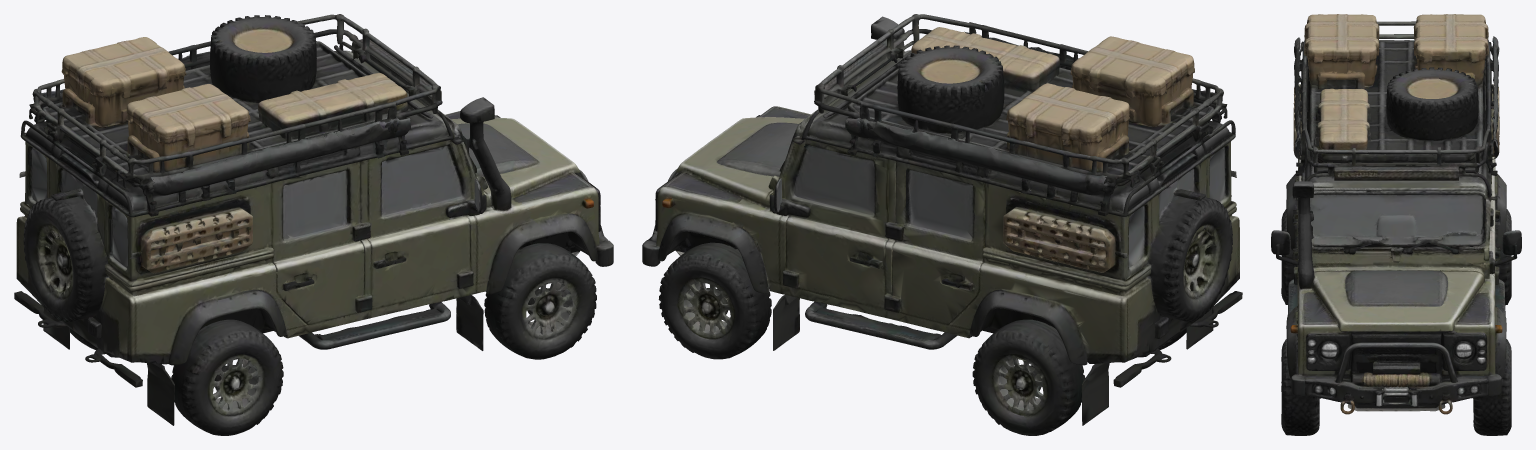
The picture shows the model from 3 angles, left to right: view 1: azimuth 30°, elevation 25°; view 2: azimuth 150°, elevation 25°; view 3: azimuth 270°, elevation 25°; orthographic projection. The views are drawn at different scales.
Visible parts, largest first — view 1: tripo_node_9b6f40fb-8551-4d21-af42-0942f83fa4db; view 2: tripo_node_9b6f40fb-8551-4d21-af42-0942f83fa4db; view 3: tripo_node_9b6f40fb-8551-4d21-af42-0942f83fa4db.
Boxes of the visible parts, <box> form: tripo_node_9b6f40fb-8551-4d21-af42-0942f83fa4db: <box>14,14,613,435</box>; tripo_node_9b6f40fb-8551-4d21-af42-0942f83fa4db: <box>642,14,1242,435</box>; tripo_node_9b6f40fb-8551-4d21-af42-0942f83fa4db: <box>1271,14,1521,435</box>.
Size of the model in its own units: 0.9988 by 0.5653 by 0.486.
Materials: 1 (1 with a texture image).
